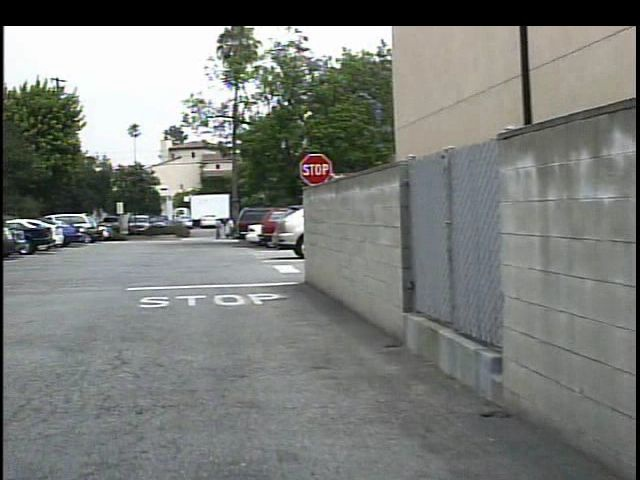person: (204, 216, 218, 242), (216, 216, 229, 242)
